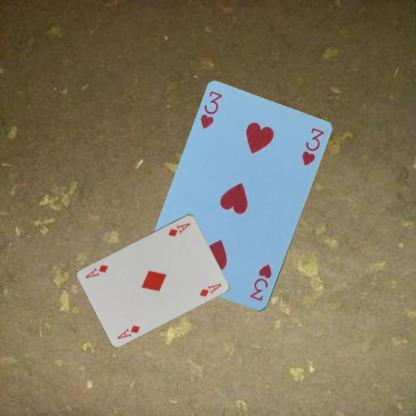3h: (198, 89, 224, 130), (248, 262, 274, 302)
Ad: (165, 220, 191, 238), (115, 322, 141, 340)
